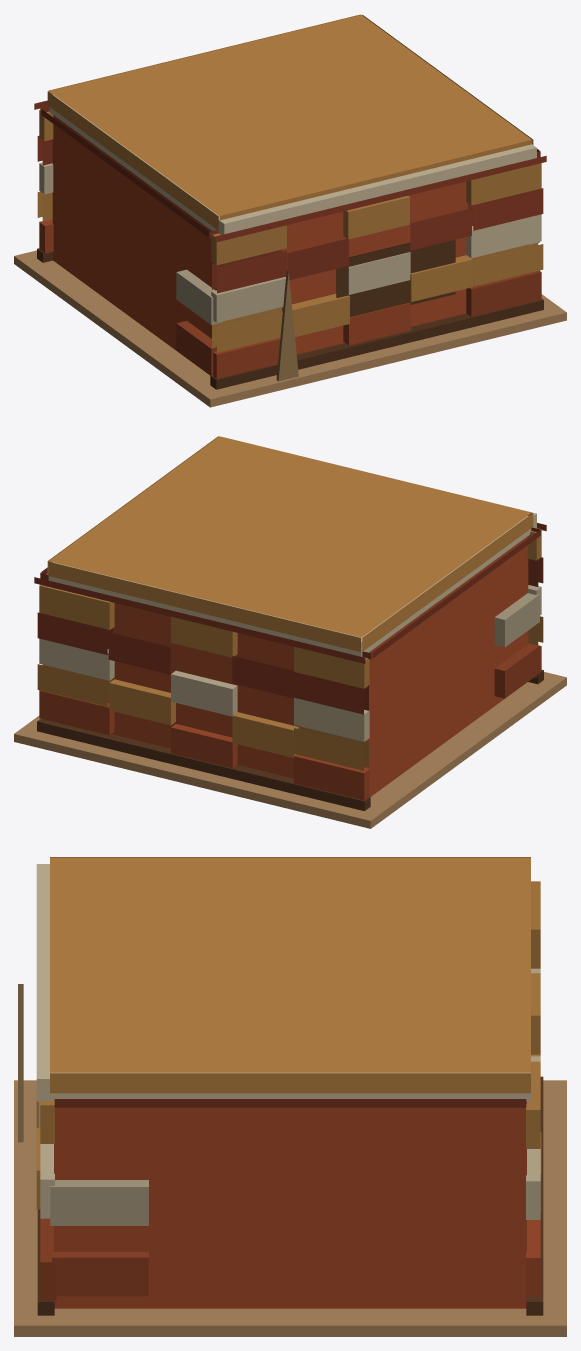
Rendered from TriceratopsSkullSil.fbx.
3 views of the same model, one above another, from view 1: azimuth 30°, elevation 25°; view 2: azimuth 150°, elevation 25°; view 3: azimuth 270°, elevation 25° (orthographic). The views are drawn at different scales.
Visible parts, largest first — view 1: DG_S_All; view 2: DG_S_All; view 3: DG_S_All.
Boxes of the visible parts, <box> form: DG_S_All: <box>14,14,566,407</box>; DG_S_All: <box>14,436,566,828</box>; DG_S_All: <box>14,857,566,1336</box>.
Bounding box in the file's own units: 42.04 × 19.9 × 40.04.
